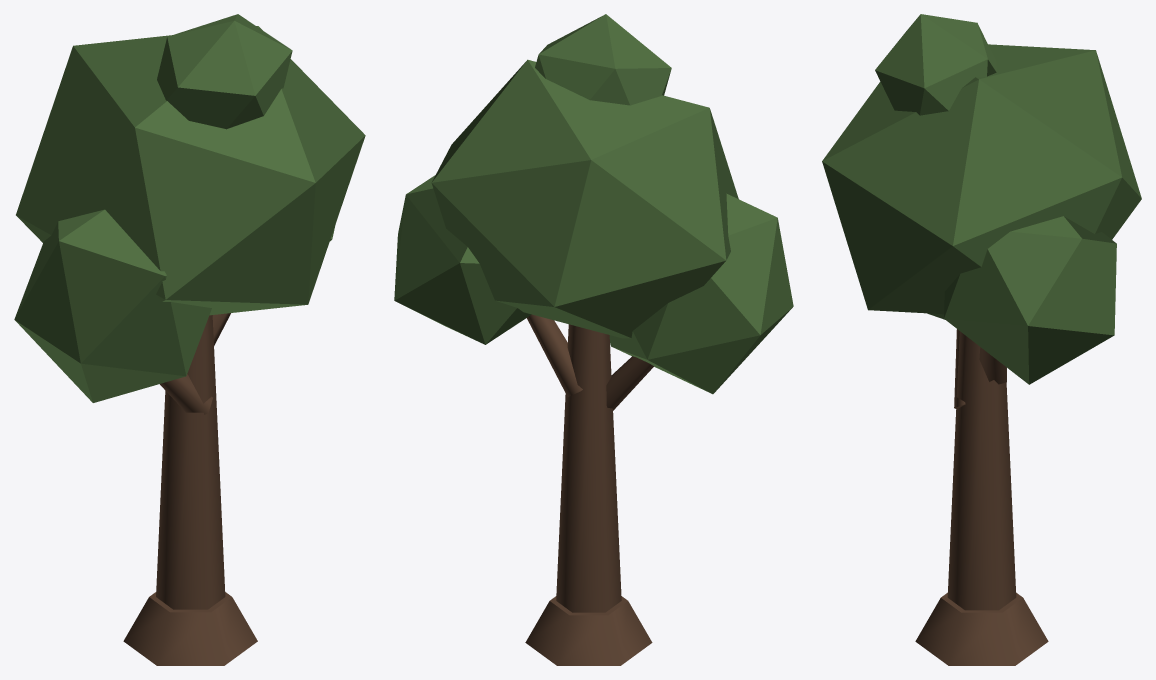
File: tree_oak_4.glb
3 views of the same model, side by side, from view 1: azimuth 30°, elevation 25°; view 2: azimuth 150°, elevation 25°; view 3: azimuth 270°, elevation 25° (orthographic). The views are drawn at different scales.
Parts seen in each view (by area): view 1: tree_oak_4; view 2: tree_oak_4; view 3: tree_oak_4.
Boxes of the visible parts, x1,y1,x2,y2 form: tree_oak_4: [14, 14, 365, 665]; tree_oak_4: [394, 14, 793, 665]; tree_oak_4: [822, 14, 1141, 665].
Size of the model in its own units: 3.38 by 5.77 by 2.64.
